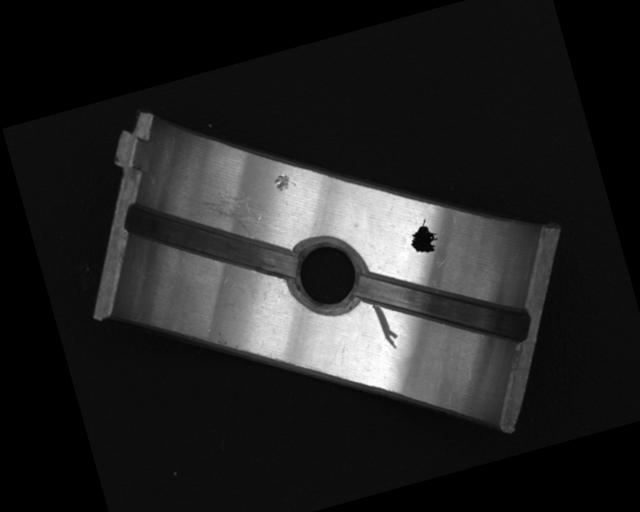blot: (404, 215, 441, 257)
bruise: (271, 170, 297, 193)
gap: (119, 165, 301, 316), (357, 237, 532, 377)
hole: (281, 230, 374, 322)
nick: (372, 301, 401, 352)
scratch: (180, 175, 266, 253)
